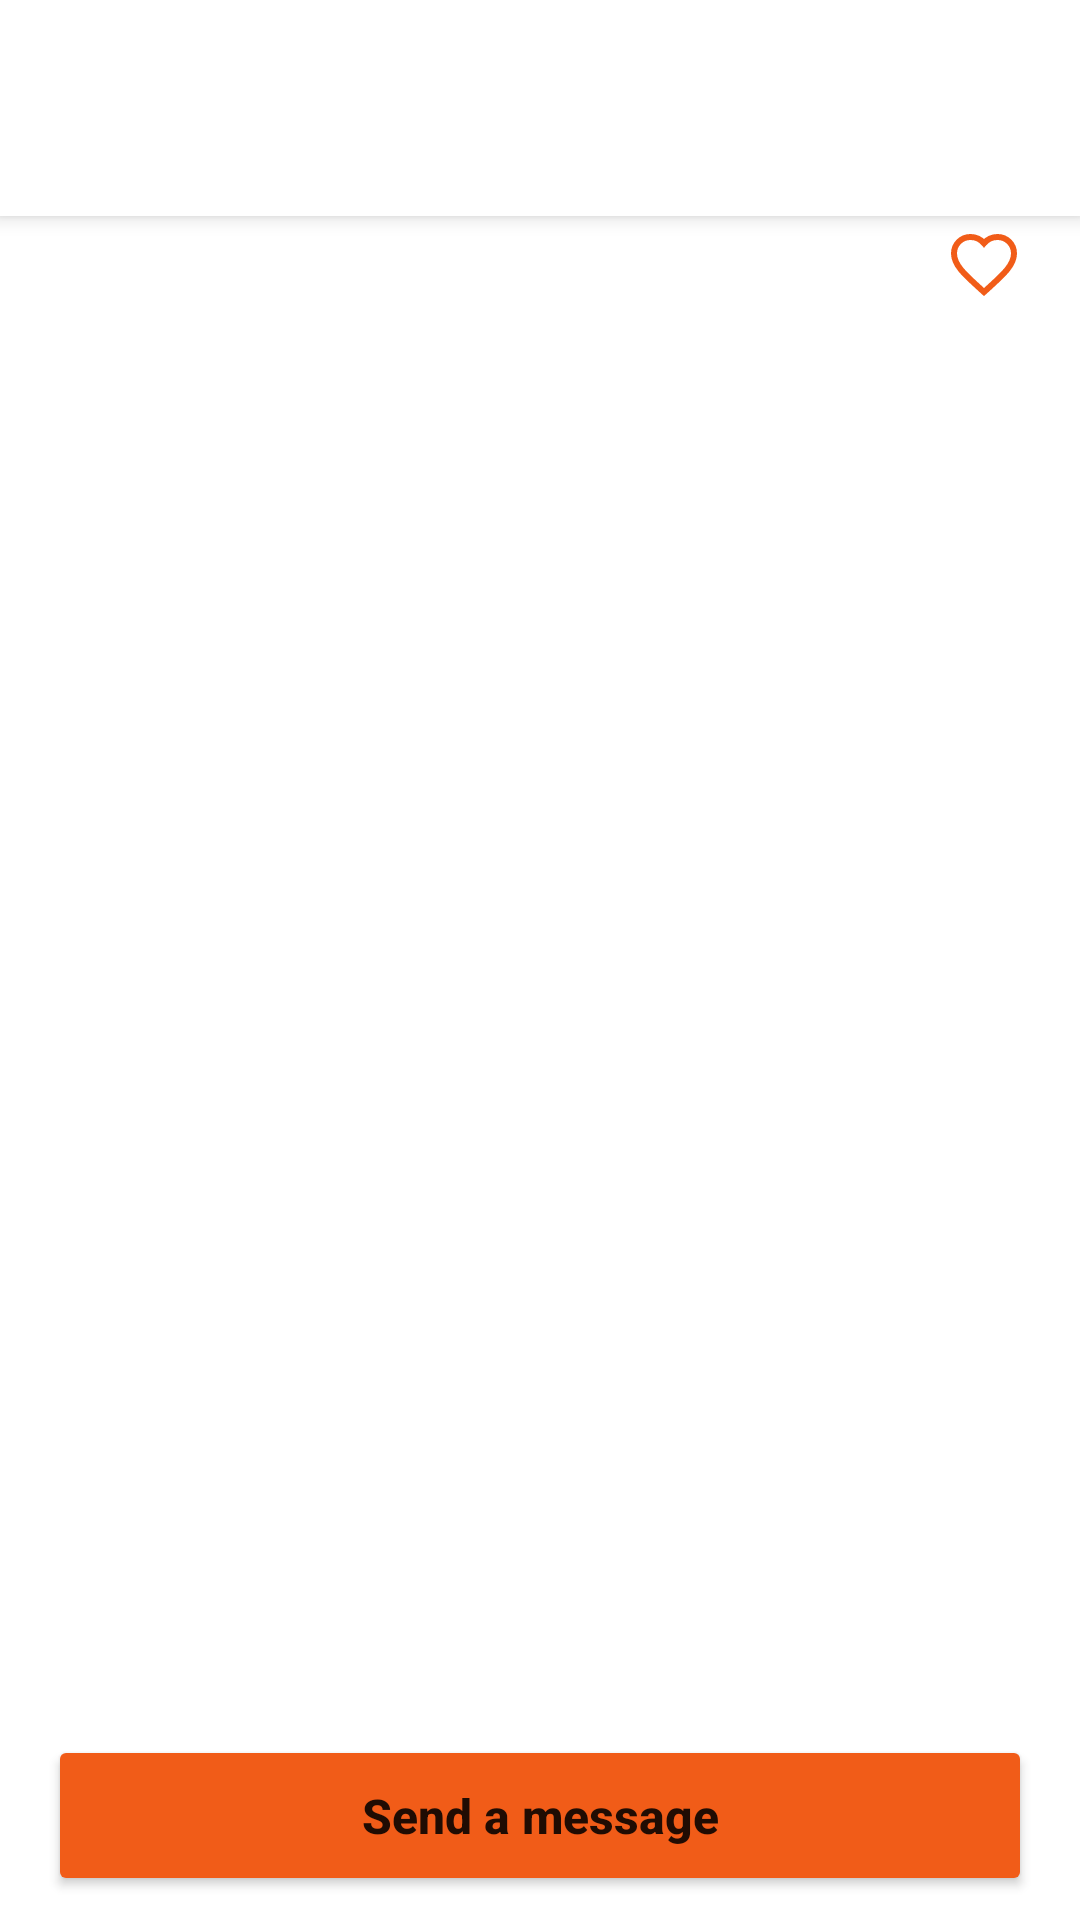

Icon click points for this 1080x1920 phone screenshot, format (x=x, y=y):
heart: (x=984, y=265)
